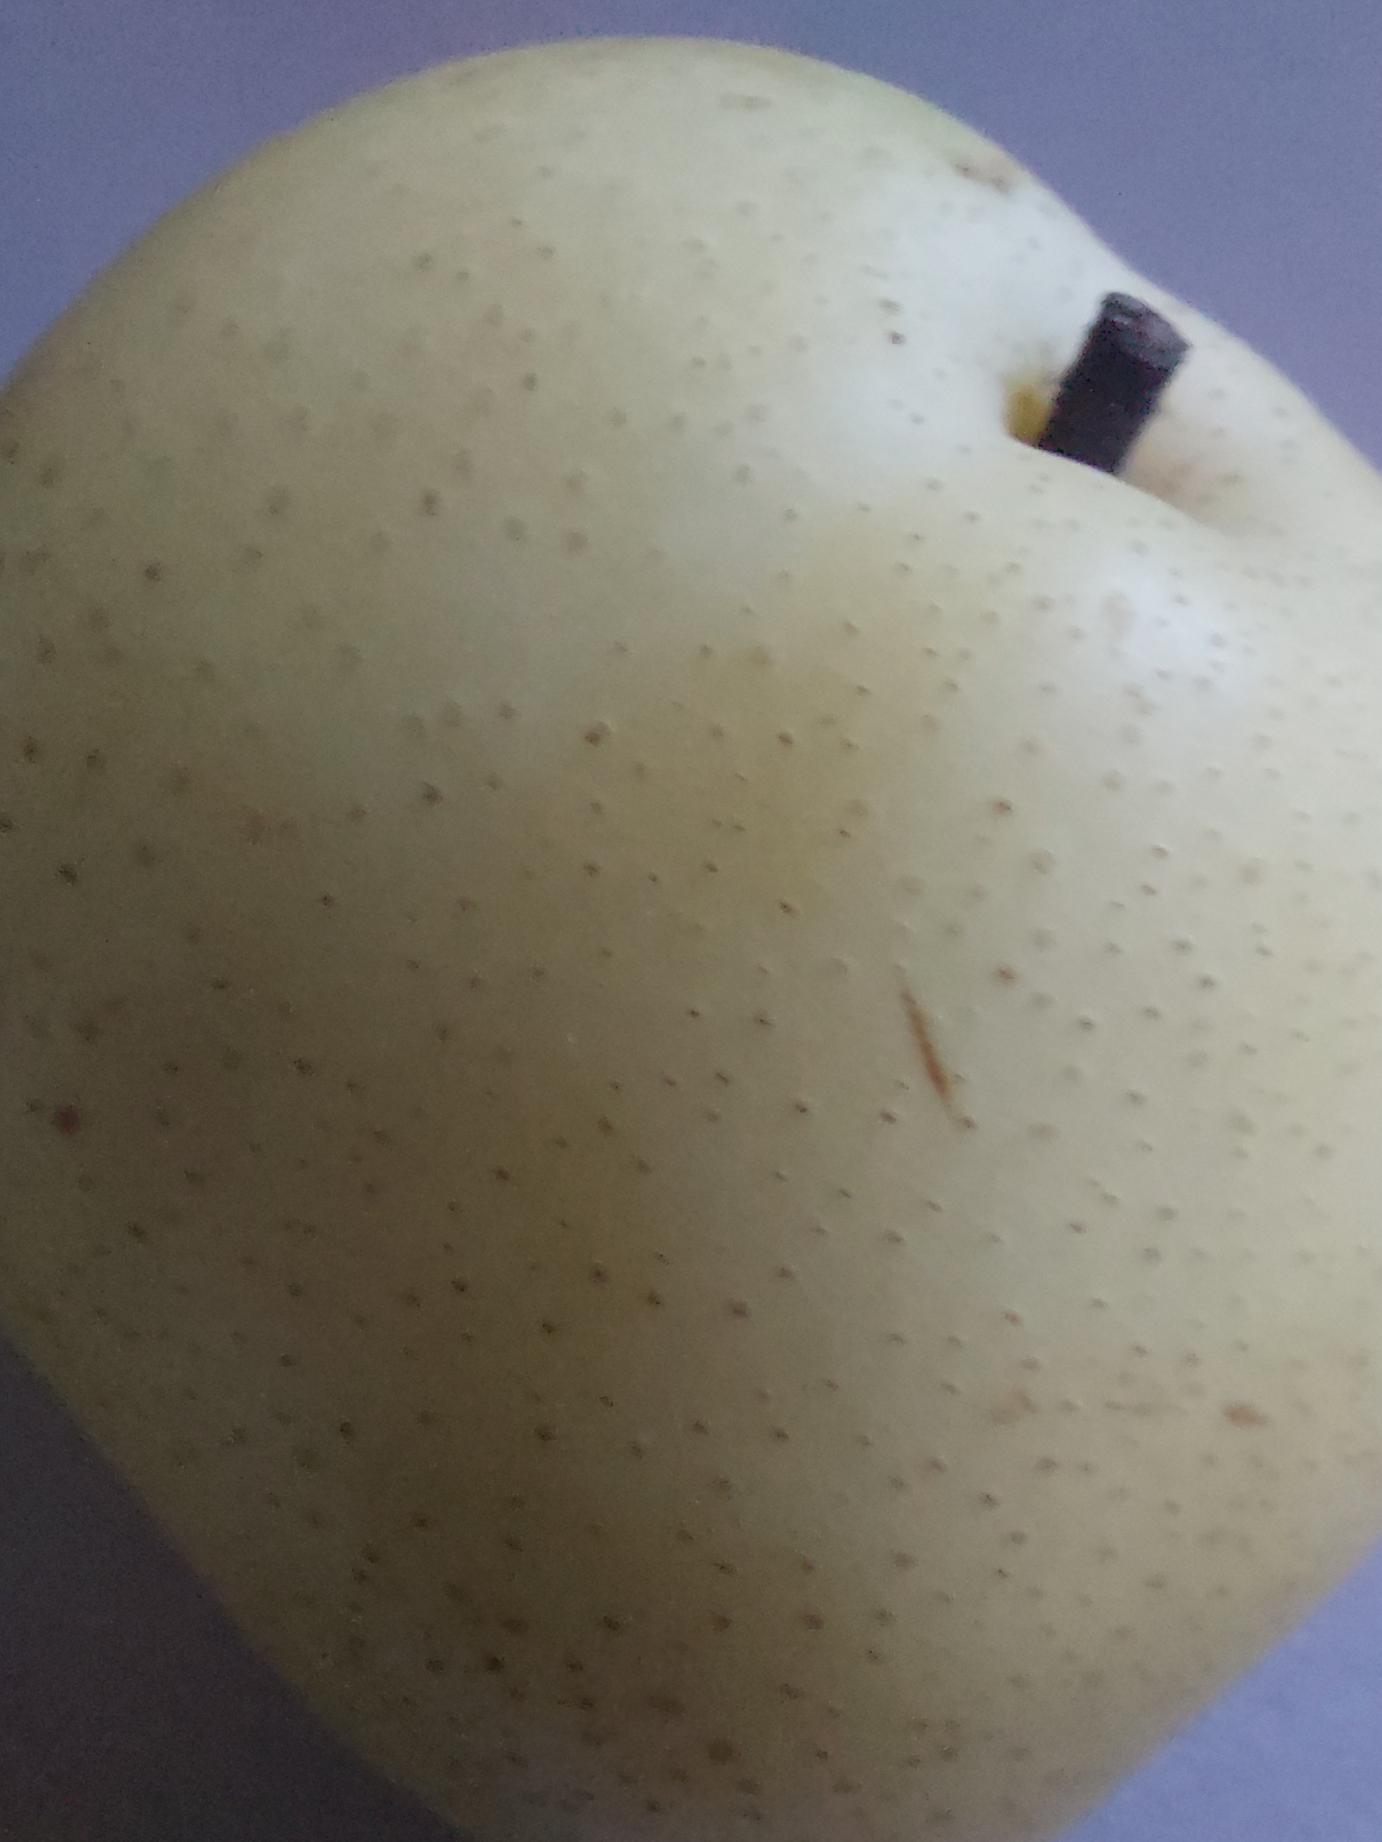Good Pear: (0, 29, 1382, 1842)
